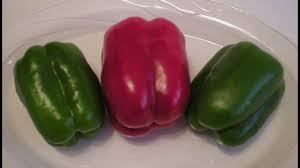bell pepper: (184, 28, 289, 156), (100, 14, 191, 134), (5, 40, 102, 151)
